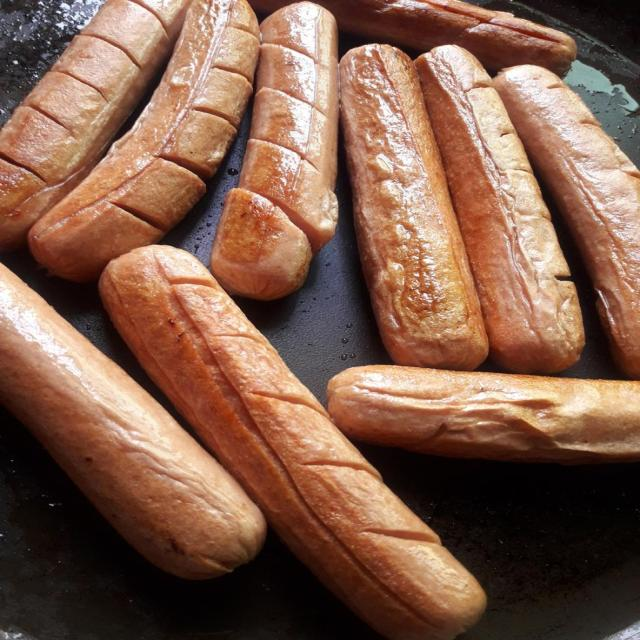sausage: (100, 246, 485, 639), (0, 265, 265, 578), (29, 0, 259, 281), (416, 46, 584, 373), (340, 45, 487, 369), (0, 0, 190, 249), (494, 66, 639, 379), (211, 2, 338, 300), (328, 366, 639, 464), (319, 0, 576, 73)
